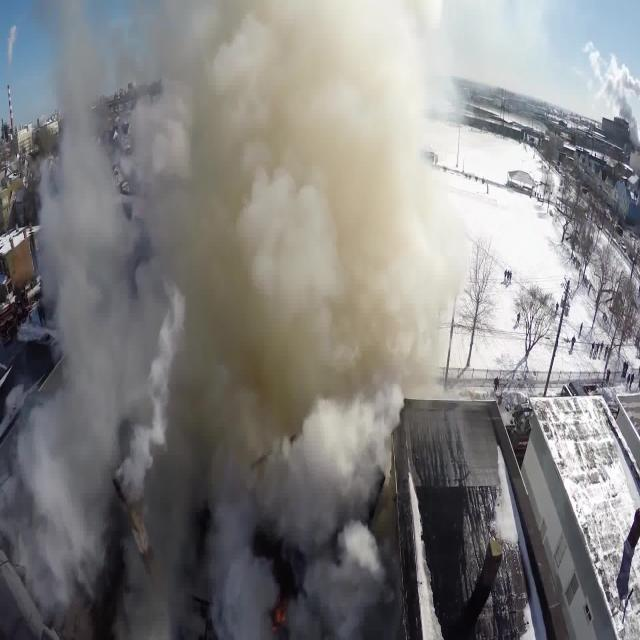Smoke: (0, 9, 522, 616)
